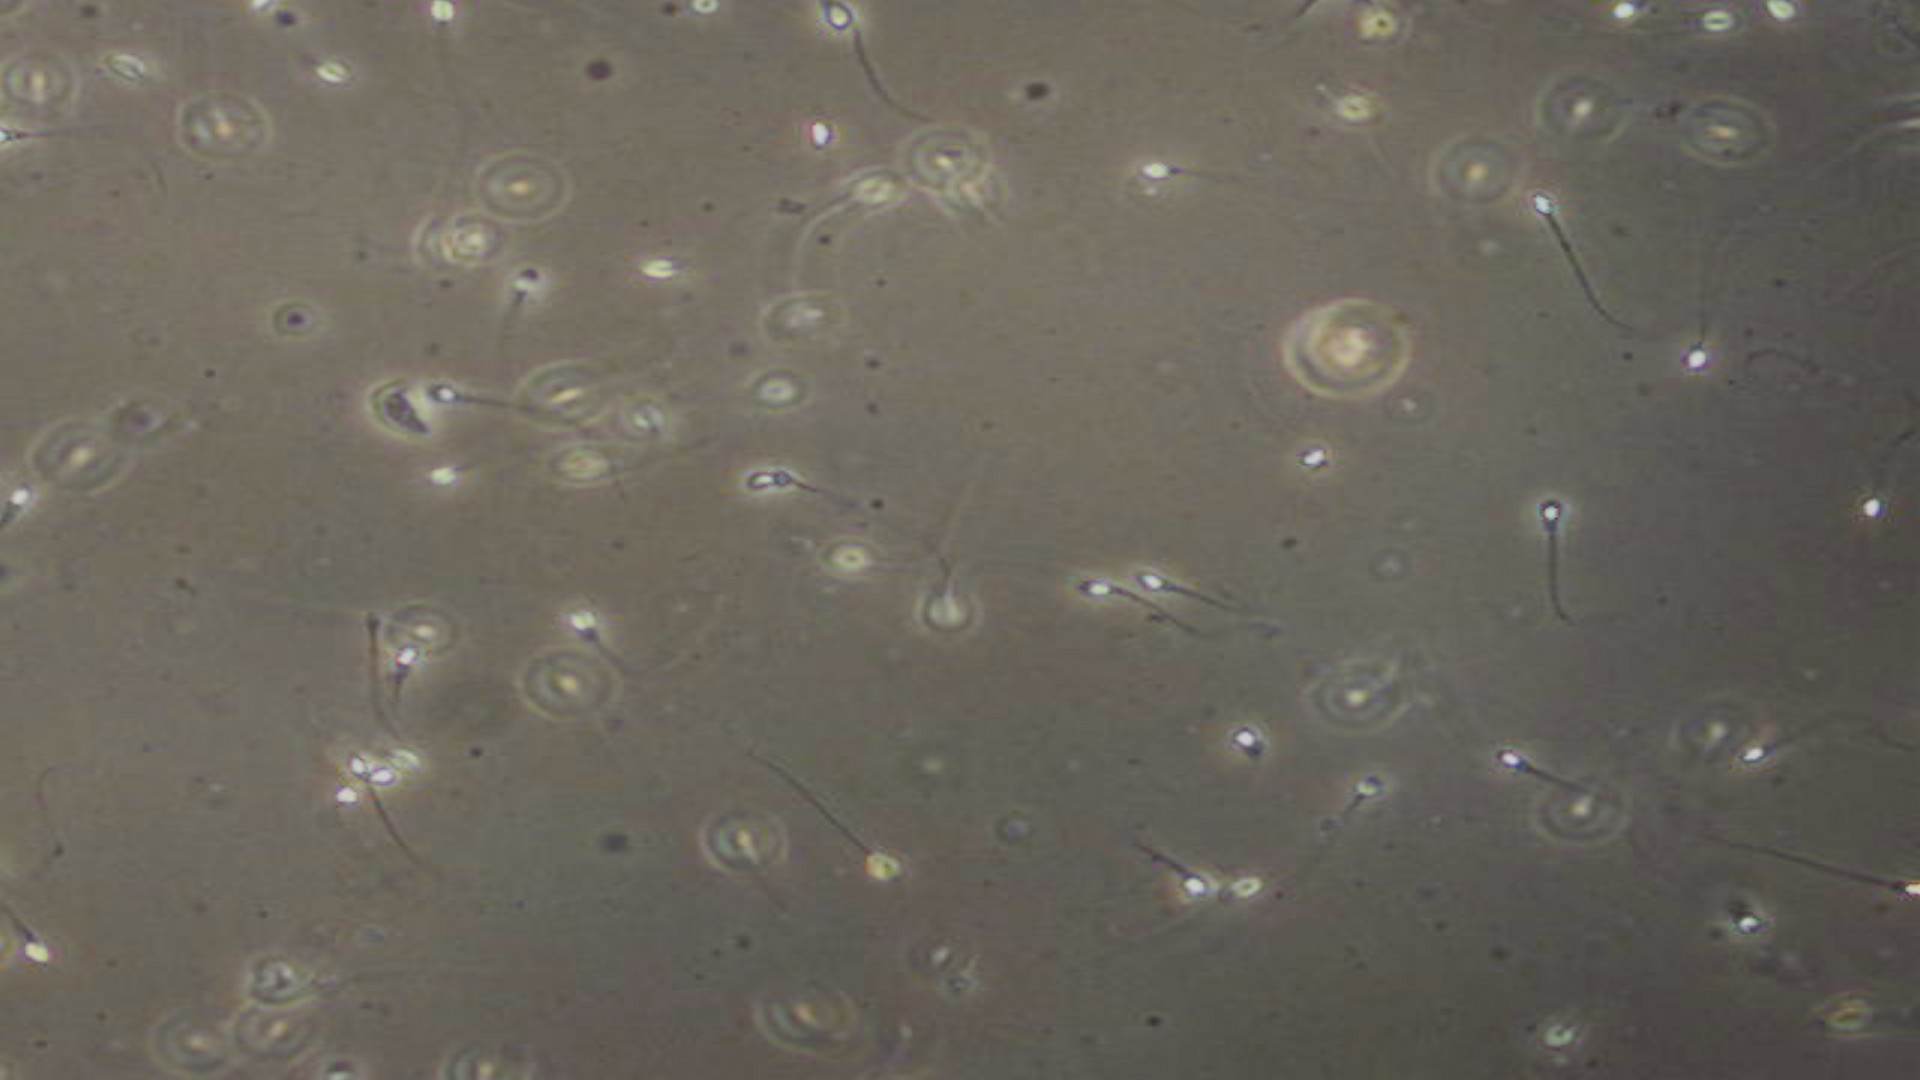sperm: (1129, 161, 1458, 258), (1693, 824, 1920, 918), (1527, 191, 1669, 316), (1712, 705, 1880, 802), (547, 607, 674, 703), (425, 381, 564, 468), (1286, 766, 1395, 873), (1675, 251, 1754, 392), (749, 463, 895, 531), (340, 742, 425, 856), (1, 876, 86, 982), (789, 107, 878, 196), (1535, 481, 1586, 636), (1129, 818, 1211, 905), (1482, 735, 1572, 814), (1850, 438, 1917, 541), (1124, 567, 1245, 621), (502, 251, 556, 368), (386, 634, 440, 731), (1062, 574, 1150, 629), (1, 475, 46, 531)
